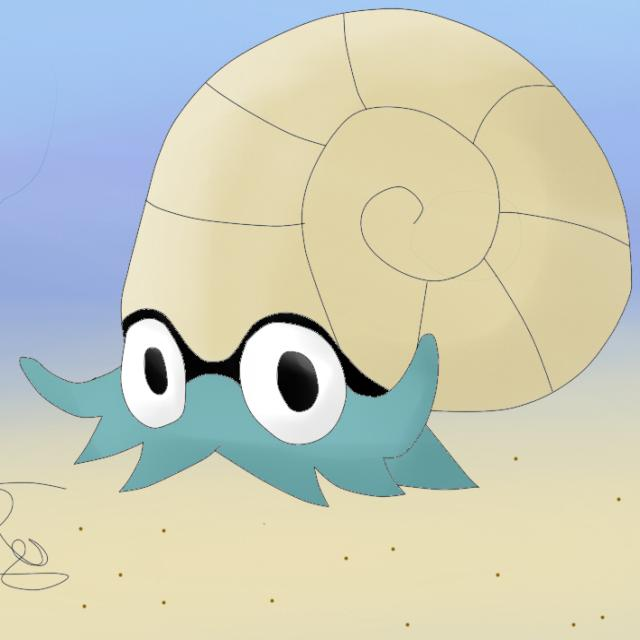Omanyte: (110, 9, 631, 494)
